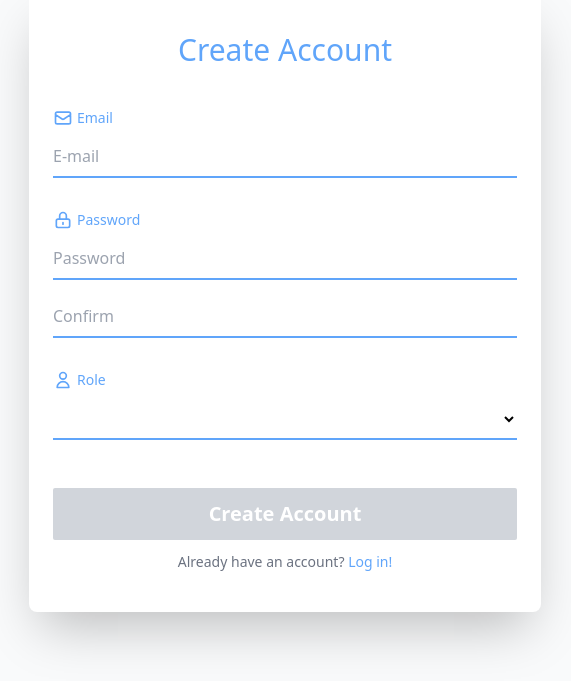
Test case: <CreateAccount /> › renders not valid email error
Type "wont@work" into the field with placeholder "E-mail".
click(285, 157); type("wont@work")  # box [53,136,517,178]
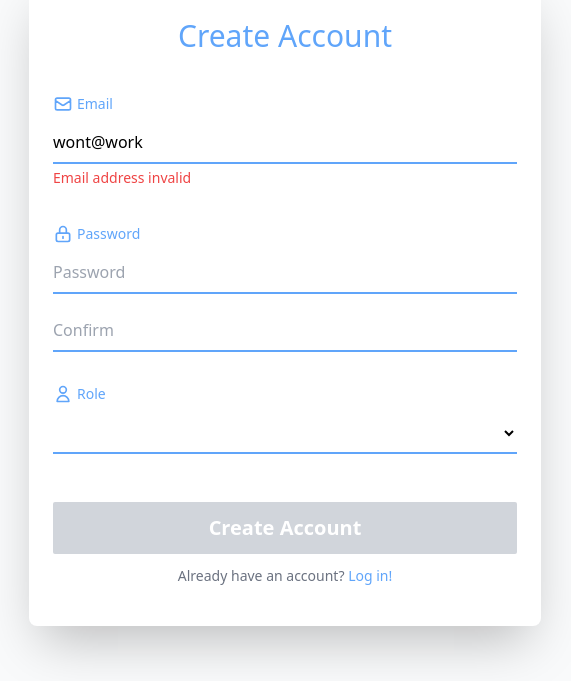
Now the message reads "Email address invalid", box [53,168,191,187]
